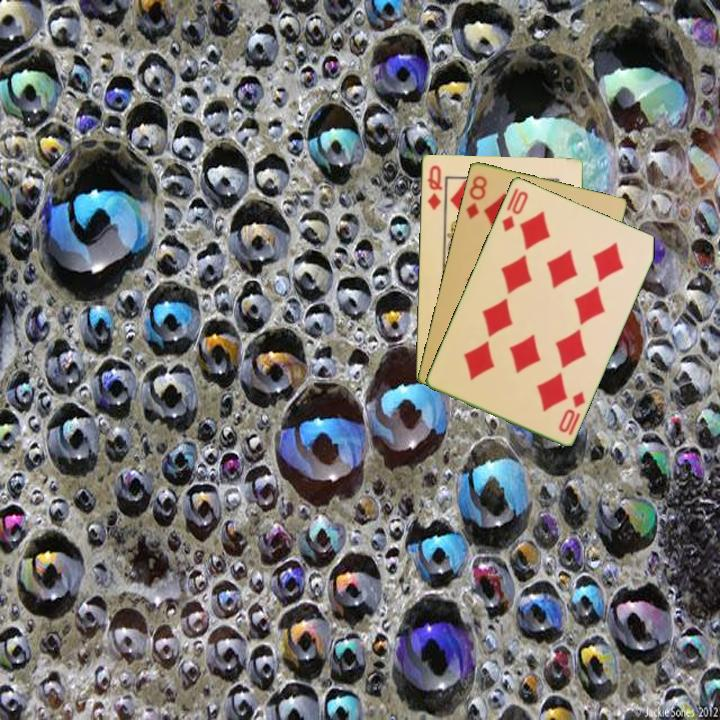10d: (555, 387, 588, 435), (498, 187, 531, 234)
8d: (462, 172, 490, 222)
Qd: (424, 161, 445, 212)
